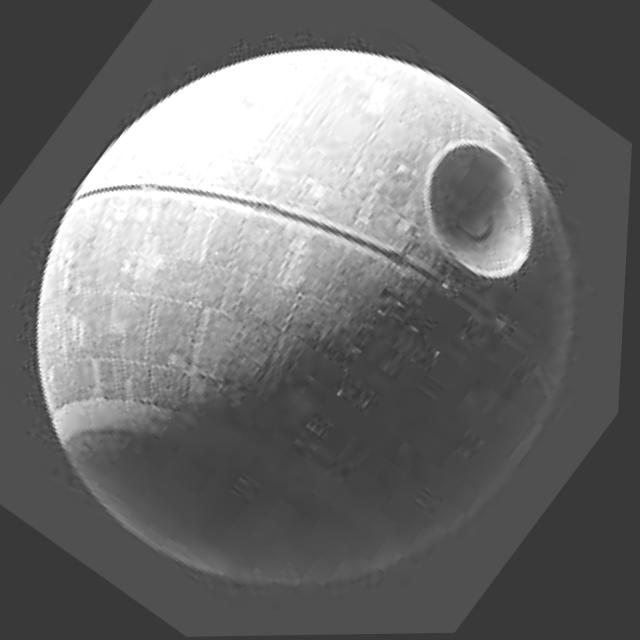death-stars: (35, 48, 583, 595)
